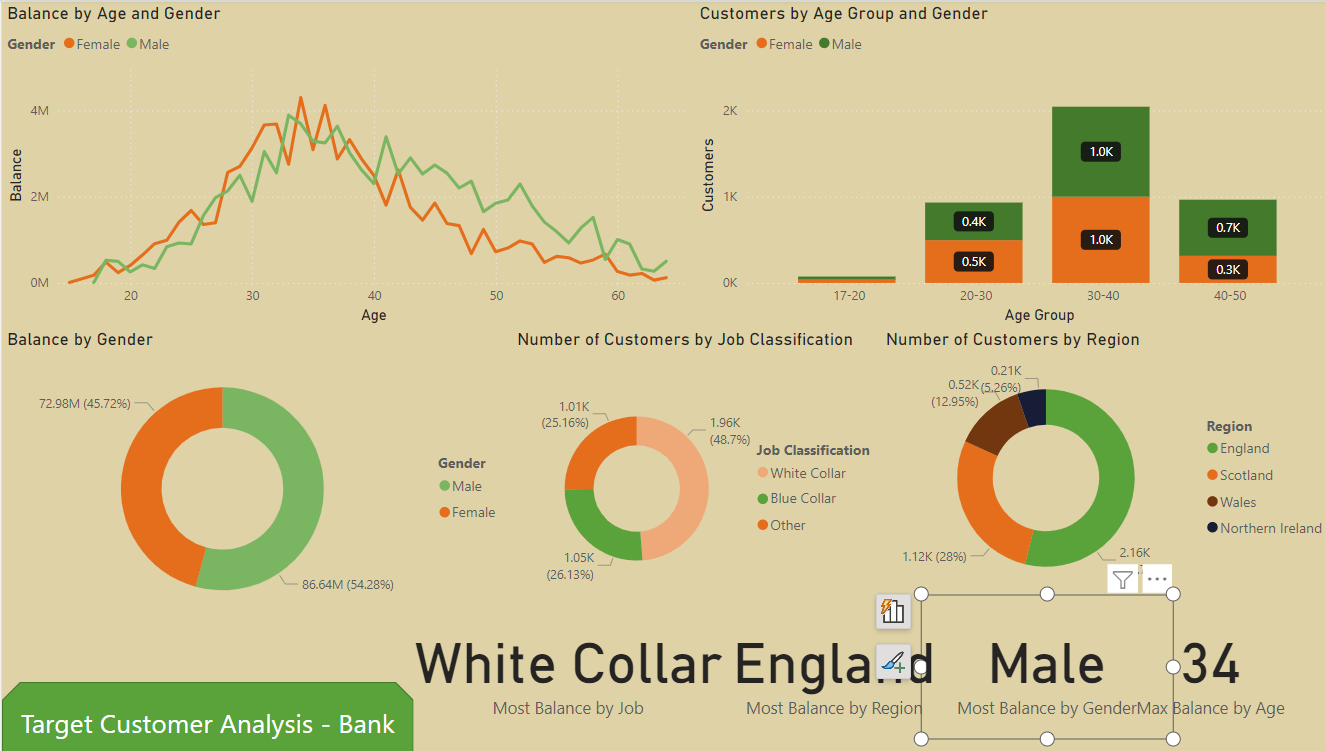

This screenshot's page, from the dashboard's own definition file:
{"tool":"powerbi","page":{"name":"Page 1","canvas":[1280,720],"ordinal":0},"visuals":[{"type":"columnChart","fields":{"Category":["Data.Age Group"],"Y":["Data.Age Group"],"Series":["Data.Gender"]},"box":[663.7,0,616.1,313.1],"z":0},{"type":"donutChart","fields":{"Category":["Data.Job Classification"],"Y":["Data.Job Classification"]},"box":[489.1,313.1,353.5,288.6],"z":1000},{"type":"donutChart","fields":{"Category":["Data.Region"],"Y":["Data.Full Name"]},"box":[842.6,313.1,437.2,268.4],"z":2000},{"type":"lineChart","fields":{"Y":["Data.Balance"],"Series":["Data.Gender"],"Category":["Data.Age"]},"box":[0,0,663.7,313.1],"z":3000},{"type":"donutChart","fields":{"Category":["Data.Gender"],"Y":["Data.Balance"]},"box":[0,313,489,289],"z":4000},{"type":"card","fields":{"Values":["Data.Gender"]},"box":[866.8,567.8,241.9,139.4],"z":5000},{"type":"card","fields":{"Values":["Data.Region"]},"box":[677,567.8,241.9,139.4],"z":6000},{"type":"card","fields":{"Values":["Data.Job Classification"]},"box":[379.6,567.8,325.9,139.4],"z":7000},{"type":"card","fields":{"Values":["Data.Age"]},"box":[1038.1,567.8,241.9,139.4],"z":8000},{"type":"shape","box":[0,651.8,394.8,68.9],"z":9000}]}

Visuals, with their boxes in screenshot pixels (x1, y1, x2, y2), scaled from the page's 1280x720 canvas onto the 1325x751 screenshot:
columnChart - Data.Age Group x Data.Age Group: 687,0,1324,327
donutChart - Data.Job Classification x Data.Job Classification: 506,327,872,628
donutChart - Data.Region x Data.Full Name: 872,327,1324,607
lineChart - Data.Balance x Data.Gender: 0,0,687,327
donutChart - Data.Gender x Data.Balance: 0,326,506,628
card - Data.Gender: 897,592,1148,738
card - Data.Region: 701,592,951,738
card - Data.Job Classification: 393,592,730,738
card - Data.Age: 1075,592,1324,738
shape: 0,680,409,750
